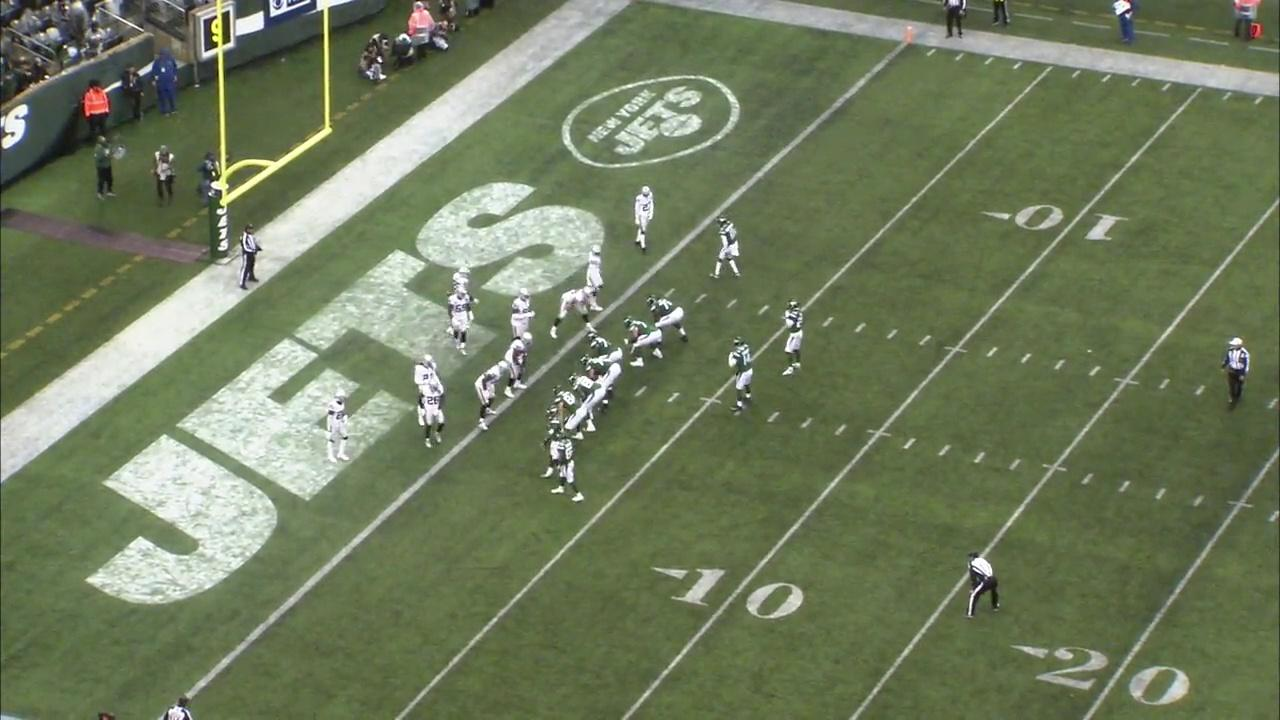defense: (547, 284, 597, 341), (472, 359, 509, 431), (446, 265, 481, 338), (413, 353, 446, 427), (323, 388, 351, 468), (417, 379, 448, 449), (503, 330, 534, 399), (446, 285, 475, 357), (630, 185, 656, 256), (509, 284, 537, 342), (586, 240, 605, 315)
oline: (579, 353, 623, 413), (567, 370, 607, 433), (644, 293, 692, 344), (622, 315, 666, 369), (584, 328, 624, 362)
qb: (725, 333, 758, 413)
ref: (959, 548, 1004, 622), (1218, 337, 1250, 414), (934, 0, 976, 46), (237, 221, 263, 293)
skill: (550, 431, 587, 504), (708, 215, 745, 280), (778, 298, 807, 378), (551, 384, 588, 444), (541, 402, 566, 482)
